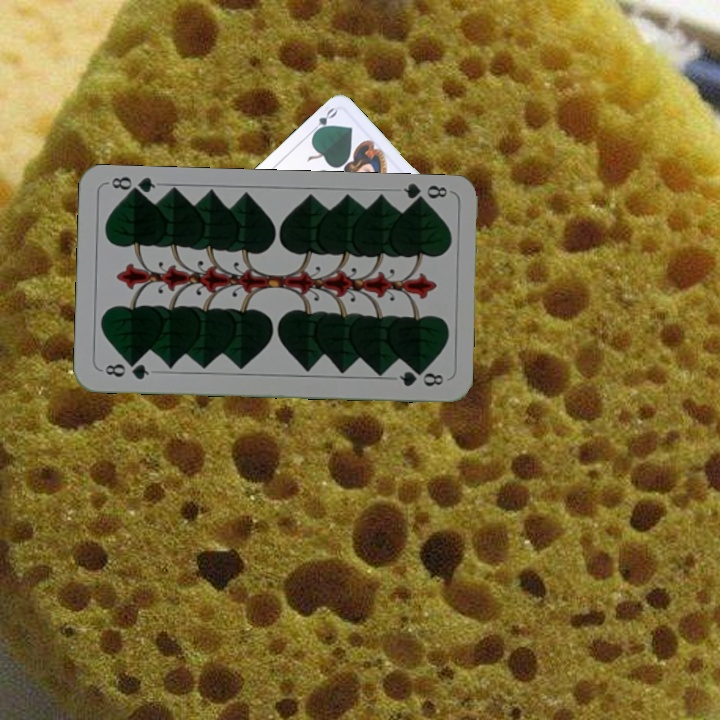G8: (399, 180, 449, 208), (98, 358, 152, 383)
GO: (305, 104, 340, 139)
